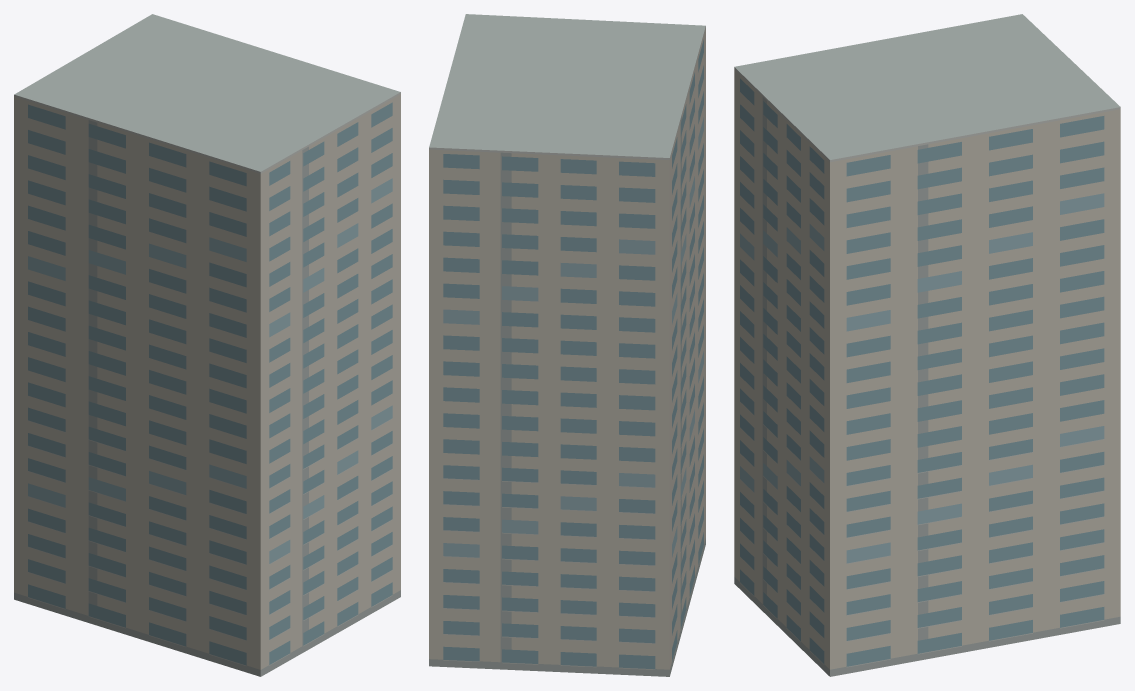
Rendered from survey-upis-33002511.glb.
3 views of the same model, side by side, from view 1: azimuth 30°, elevation 25°; view 2: azimuth 150°, elevation 25°; view 3: azimuth 270°, elevation 25° (orthographic). The views are drawn at different scales.
Visible parts, largest first — view 1: survey-upis-33002511.tmp; view 2: survey-upis-33002511.tmp; view 3: survey-upis-33002511.tmp.
Boxes of the visible parts, left/top/right/bottom form: survey-upis-33002511.tmp: left=14, top=14, right=400, bottom=676; survey-upis-33002511.tmp: left=429, top=14, right=705, bottom=676; survey-upis-33002511.tmp: left=734, top=14, right=1120, bottom=676.
Bounding box in the file's own units: 37 × 61 × 41.36.
